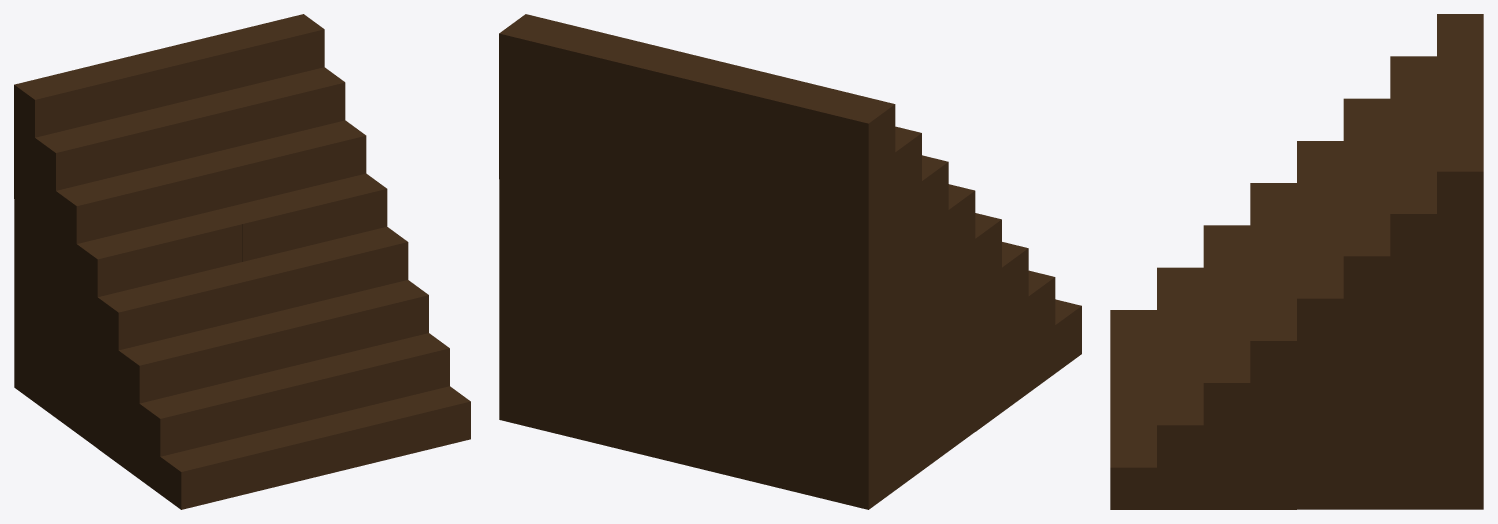
Rendered from stairs.fbx.
The picture shows the model from 3 angles, left to right: view 1: azimuth 30°, elevation 25°; view 2: azimuth 150°, elevation 25°; view 3: azimuth 270°, elevation 25°; orthographic projection. The views are drawn at different scales.
Visible parts, largest first — view 1: Cube.004; view 2: Cube.004; view 3: Cube.004.
Part boxes in pixels (x1,y1,x2,y2): Cube.004: [14, 14, 470, 509]; Cube.004: [499, 14, 1081, 509]; Cube.004: [1110, 14, 1483, 509].
Bounding box in the file's own units: 800 × 800 × 800.
